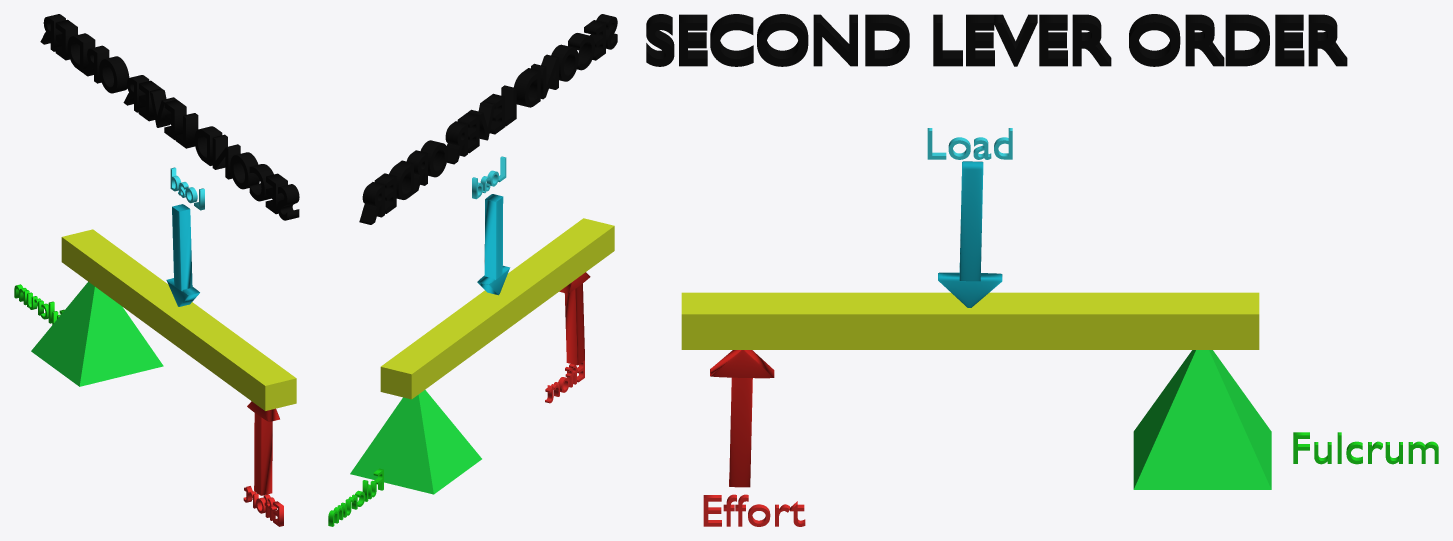
Rendered from Second Lever Order.gltf.
The picture shows the model from 3 angles, left to right: view 1: azimuth 30°, elevation 25°; view 2: azimuth 150°, elevation 25°; view 3: azimuth 270°, elevation 25°; orthographic projection. The views are drawn at different scales.
Parts seen in each view (by area): view 1: Cube.001, Text.003, Cube, Cylinder.001, Cylinder.008, Text, Text.002, Text.001; view 2: Cube.001, Text.003, Cube, Cylinder.001, Cylinder.008, Text.002, Text, Text.001; view 3: Cube.001, Text.003, Cube, Cylinder.001, Cylinder.008, Text.002, Text, Text.001.
Boxes of the visible parts, x1,y1,x2,y2 form: Cube.001: [61, 229, 296, 410]; Text.003: [40, 14, 299, 220]; Cube: [31, 281, 163, 386]; Cylinder.001: [166, 204, 199, 306]; Cylinder.008: [247, 401, 279, 495]; Text: [243, 486, 283, 526]; Text.002: [14, 284, 64, 324]; Text.001: [170, 167, 204, 210]; Cube.001: [380, 218, 614, 399]; Text.003: [359, 14, 617, 224]; Cube: [350, 390, 481, 494]; Cylinder.001: [477, 194, 510, 295]; Cylinder.008: [559, 272, 590, 365]; Text.002: [328, 468, 383, 526]; Text: [545, 360, 584, 403]; Text.001: [472, 156, 506, 199]; Cube.001: [681, 292, 1259, 349]; Text.003: [646, 14, 1347, 66]; Cube: [1133, 350, 1271, 489]; Cylinder.001: [938, 161, 1002, 307]; Cylinder.008: [710, 350, 774, 487]; Text.002: [1293, 432, 1438, 464]; Text: [703, 494, 805, 526]; Text.001: [927, 128, 1012, 159].
Size of the model in its own units: 3 by 12.01 by 17.21.
